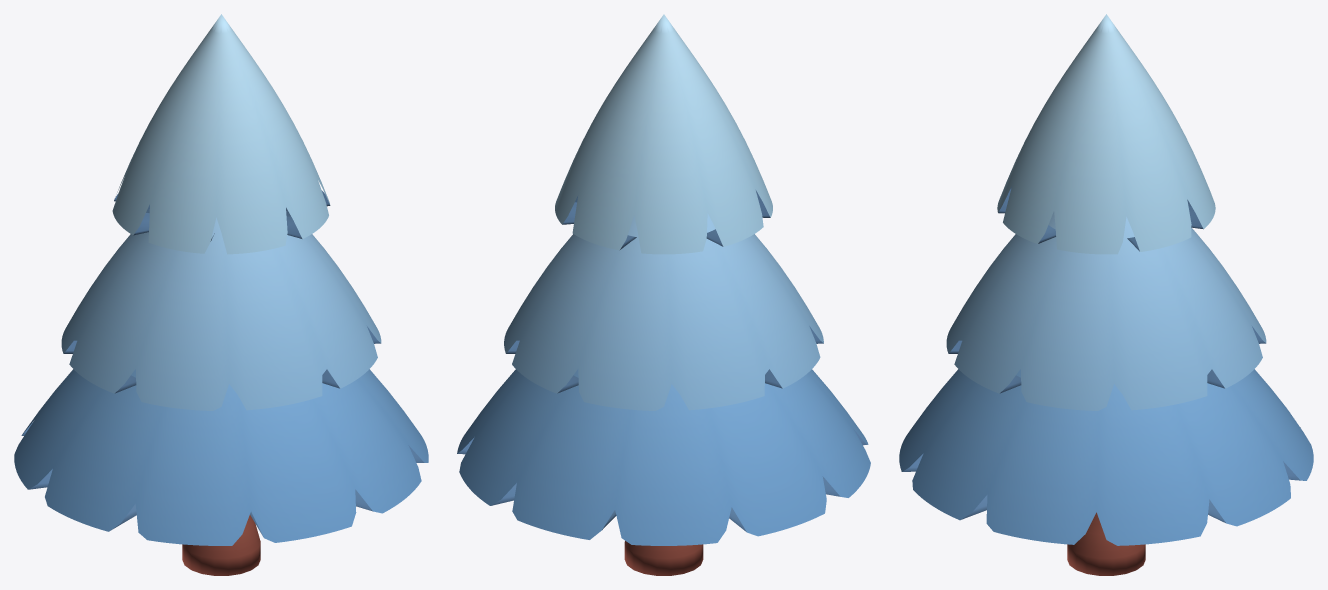
The model's file is pine_3.glb.
3 views of the same model, side by side, from view 1: azimuth 30°, elevation 25°; view 2: azimuth 150°, elevation 25°; view 3: azimuth 270°, elevation 25° (orthographic).
Visible parts, largest first — view 1: pine_3; view 2: pine_3; view 3: pine_3.
Boxes of the visible parts, x1,y1,x2,y2 form: pine_3: [14, 14, 428, 575]; pine_3: [457, 14, 870, 575]; pine_3: [899, 14, 1313, 575].
Size of the model in its own units: 2.37 by 3.44 by 2.37.
3 materials, 3 textured.
